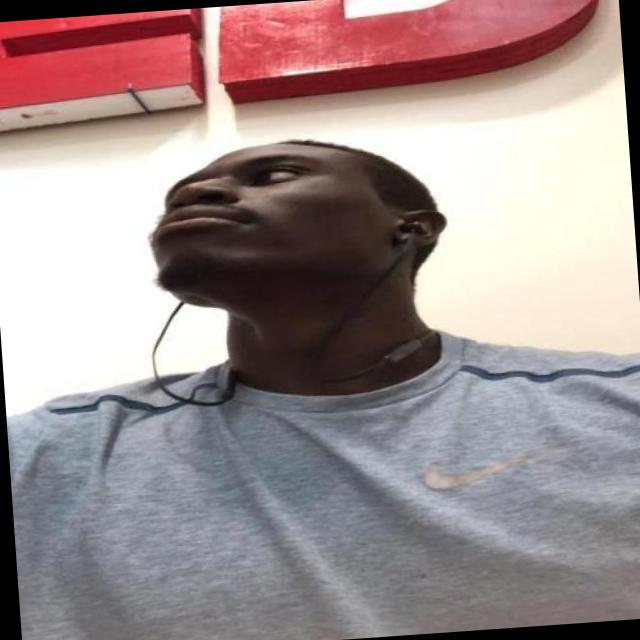bareface: (136, 113, 428, 322)
